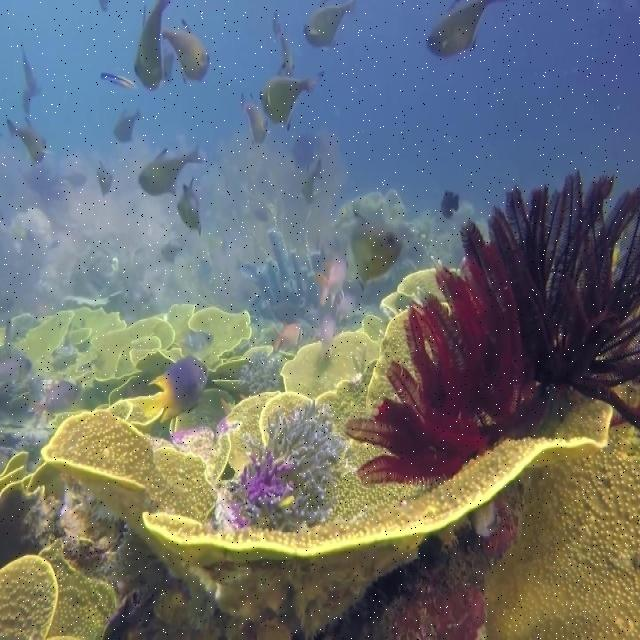fish: (426, 0, 507, 57), (141, 356, 208, 423), (133, 0, 172, 91), (138, 147, 203, 195), (162, 18, 211, 80), (351, 224, 403, 282), (260, 76, 319, 122), (304, 0, 356, 46), (6, 116, 49, 160), (241, 92, 266, 142), (178, 177, 200, 229)
reefs: (40, 398, 614, 636), (343, 167, 639, 487), (484, 424, 639, 639), (226, 401, 341, 531), (0, 537, 118, 638), (240, 230, 324, 325)
